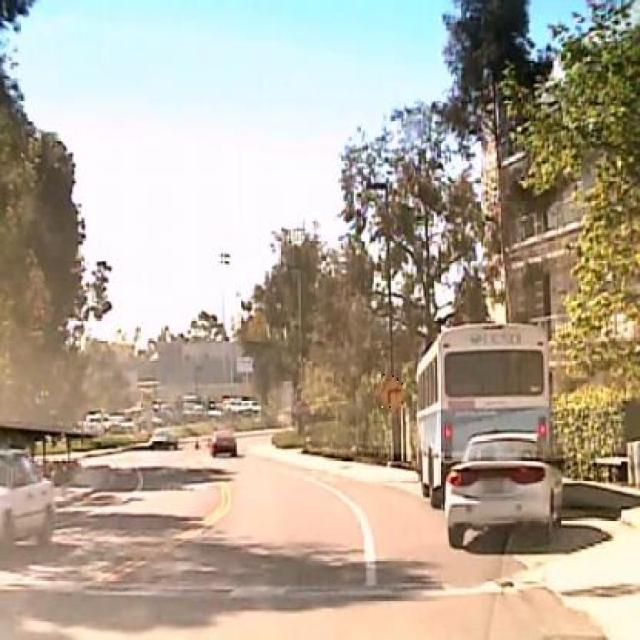turnRight: (378, 372, 406, 413)
